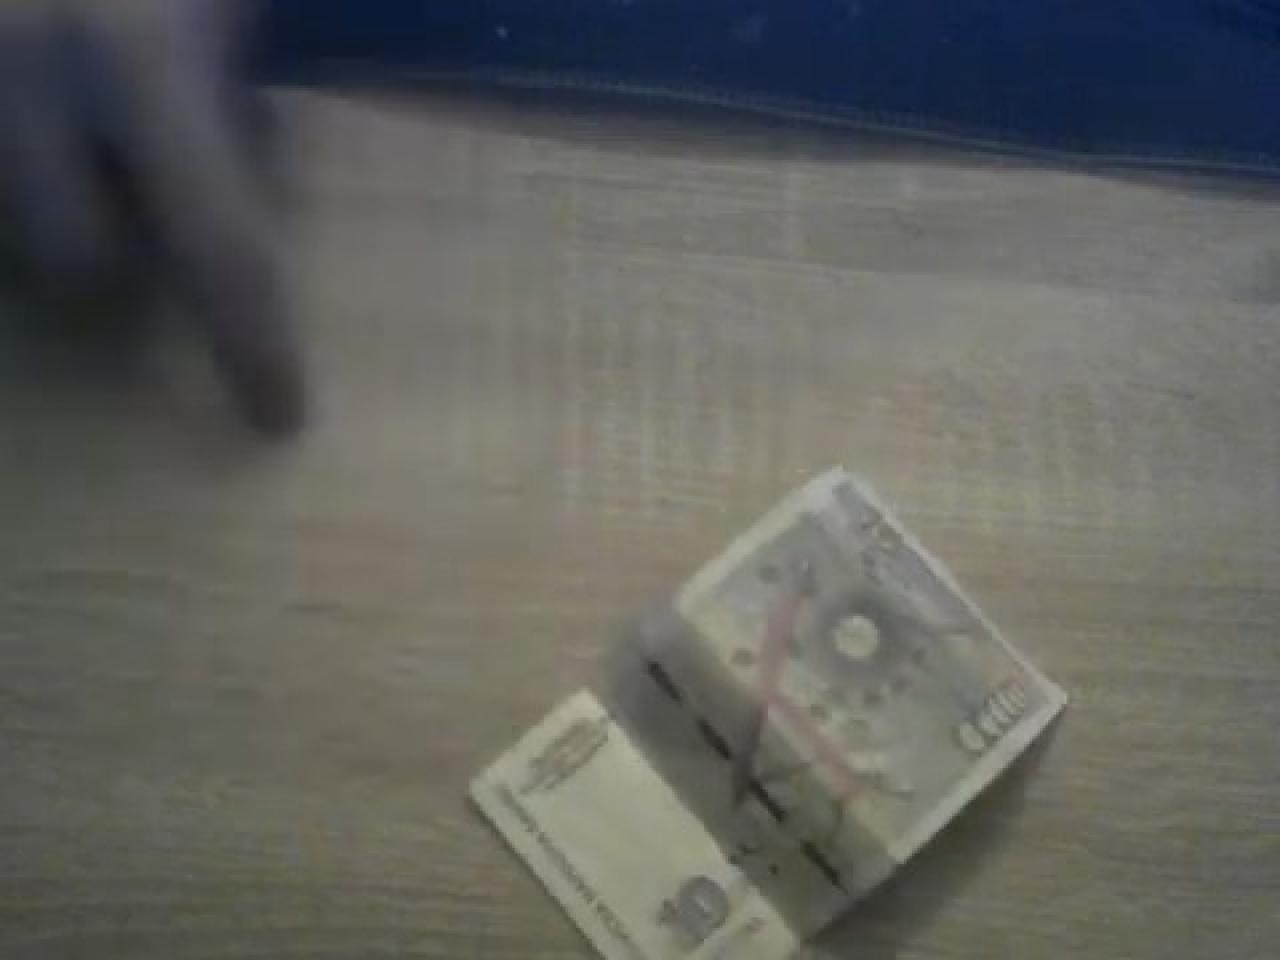10leva: (464, 469, 1072, 960)
